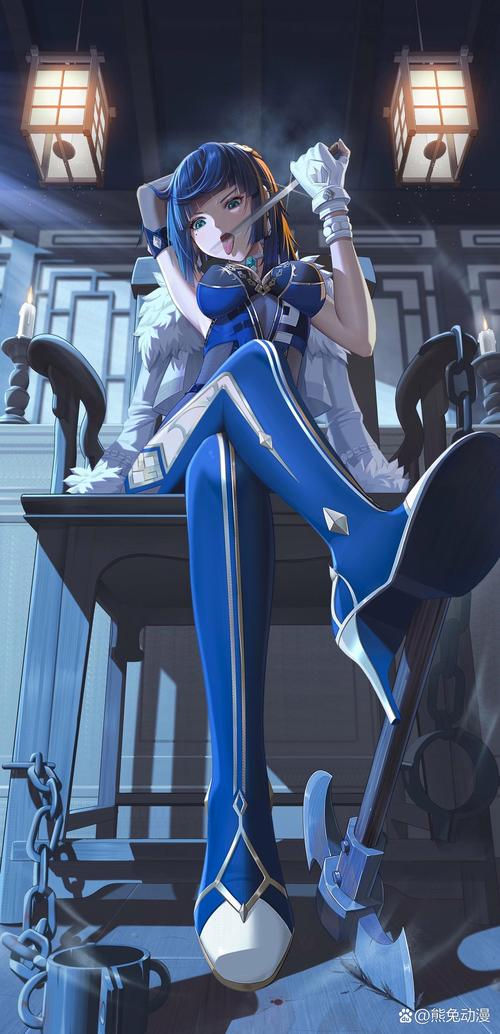夜兰: (120, 138, 500, 989)
